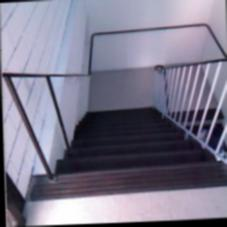Animal: (35, 136, 219, 204)
